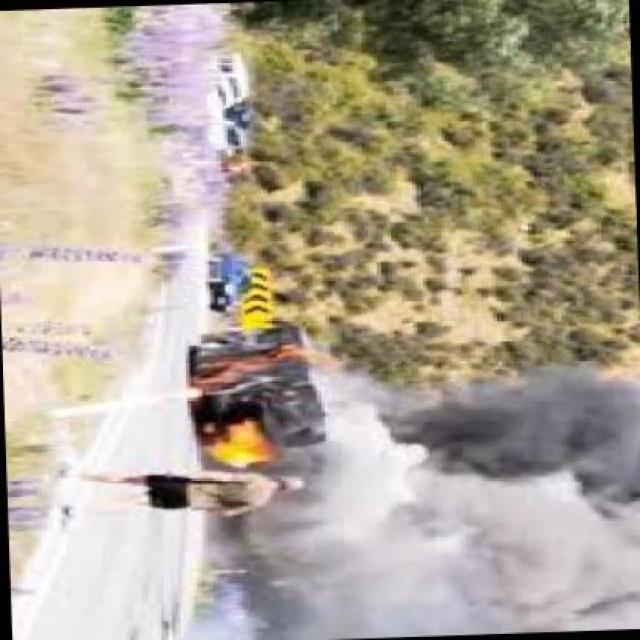Fire: (180, 347, 344, 385), (198, 420, 288, 474)
Smoke: (348, 376, 640, 639), (190, 516, 354, 640)
